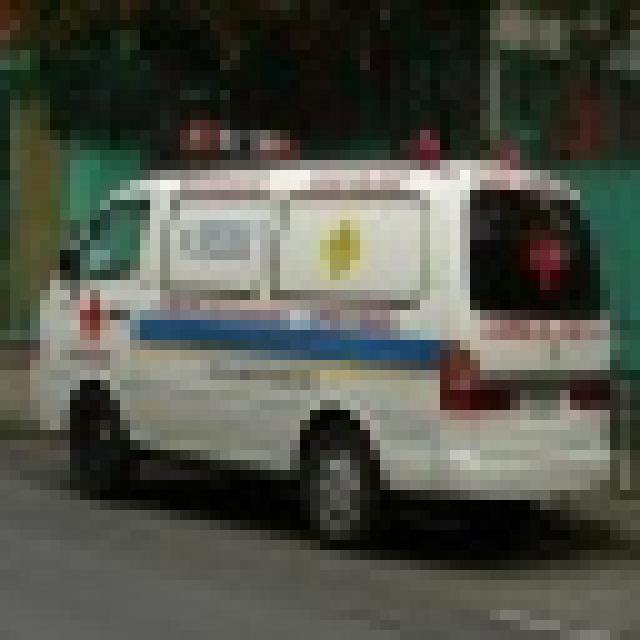Ambulance: (20, 130, 620, 540)
